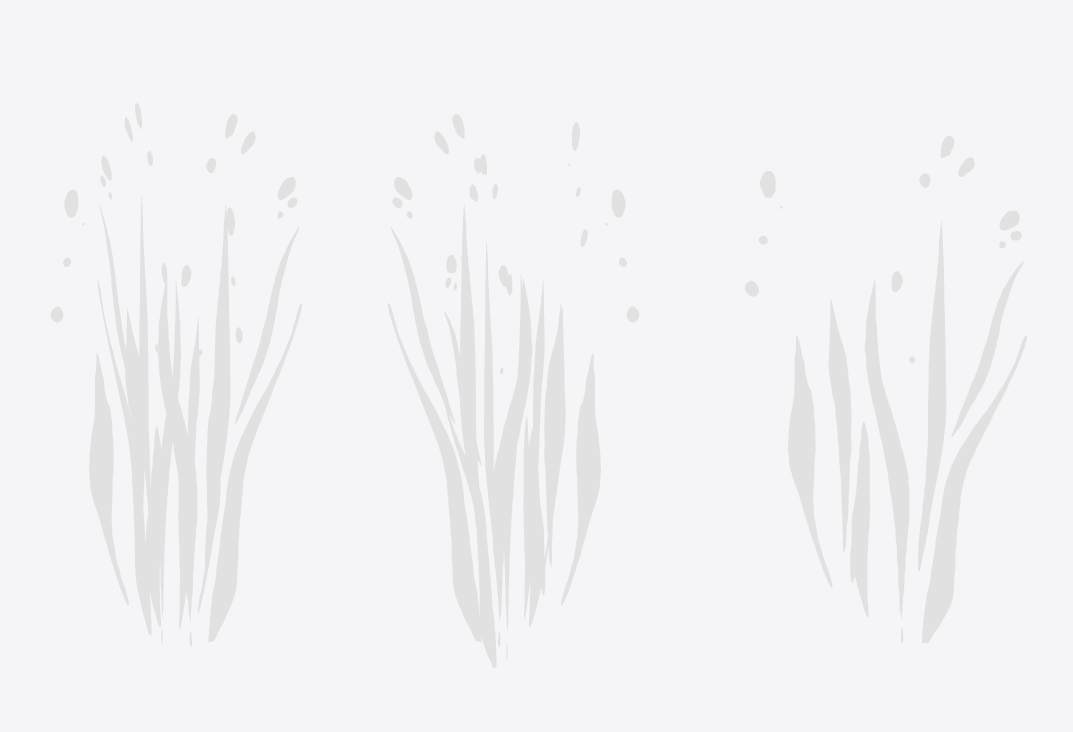
Rendered from Flowers.fbx.
The picture shows the model from 3 angles, left to right: view 1: azimuth 30°, elevation 25°; view 2: azimuth 150°, elevation 25°; view 3: azimuth 270°, elevation 25°; orthographic projection. The views are drawn at different scales.
Visible parts, largest first — view 1: Flowers; view 2: Flowers; view 3: Flowers.
Part boxes in pixels (x1=…): Flowers: x1=50, y1=103, x2=302, y2=646; Flowers: x1=387, y1=114, x2=639, y2=668; Flowers: x1=745, y1=135, x2=1026, y2=642.
Size of the model in its own units: 31.78 by 54.73 by 31.78.
